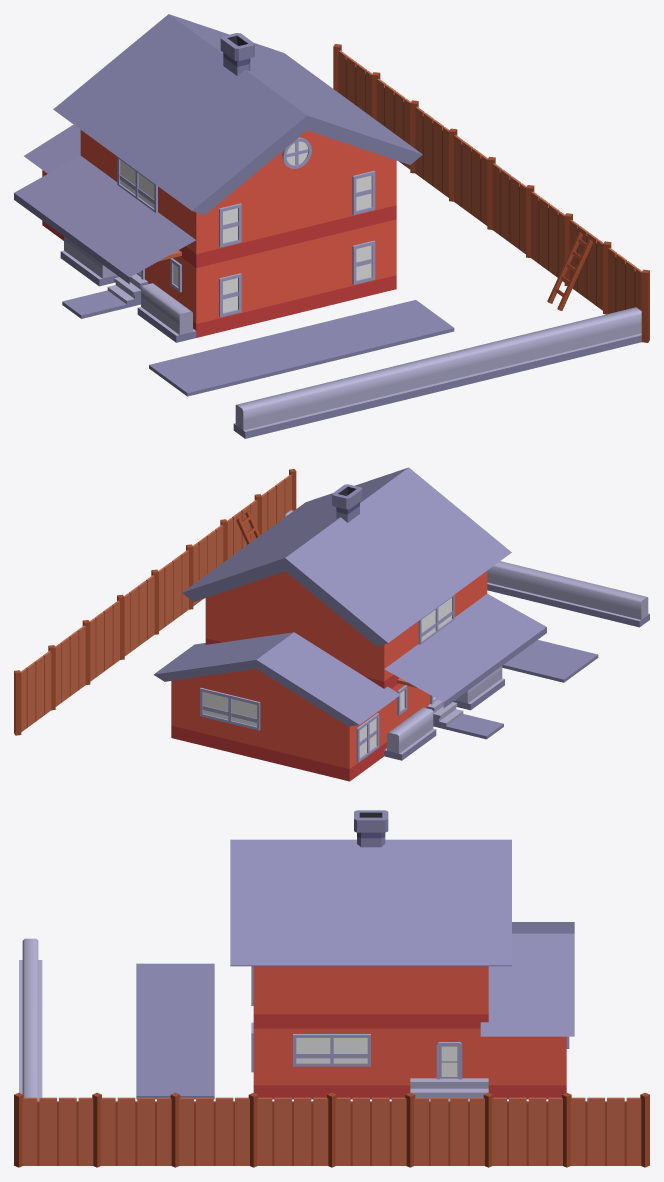
Rendered from House_005.fbx.
The picture shows the model from 3 angles, top to bottom: view 1: azimuth 30°, elevation 25°; view 2: azimuth 150°, elevation 25°; view 3: azimuth 270°, elevation 25°; orthographic projection. The views are drawn at different scales.
Parts seen in each view (by area): view 1: mergedBlocks; view 2: mergedBlocks; view 3: mergedBlocks.
Part boxes in pixels (x1,y1,x2,y2): mergedBlocks: [14, 14, 649, 438]; mergedBlocks: [14, 467, 649, 781]; mergedBlocks: [14, 810, 649, 1167].
Size of the model in its own units: 303 by 165 by 406.
